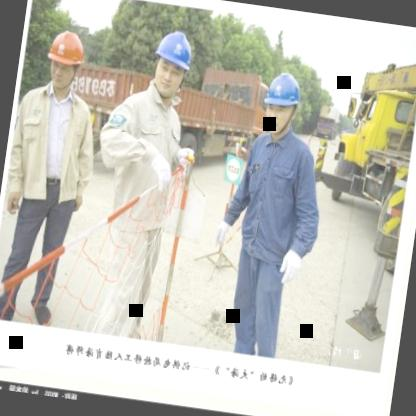helmet: (144, 22, 200, 106), (257, 64, 308, 143), (40, 23, 91, 94)
